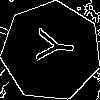Y: (26, 26, 75, 65)
